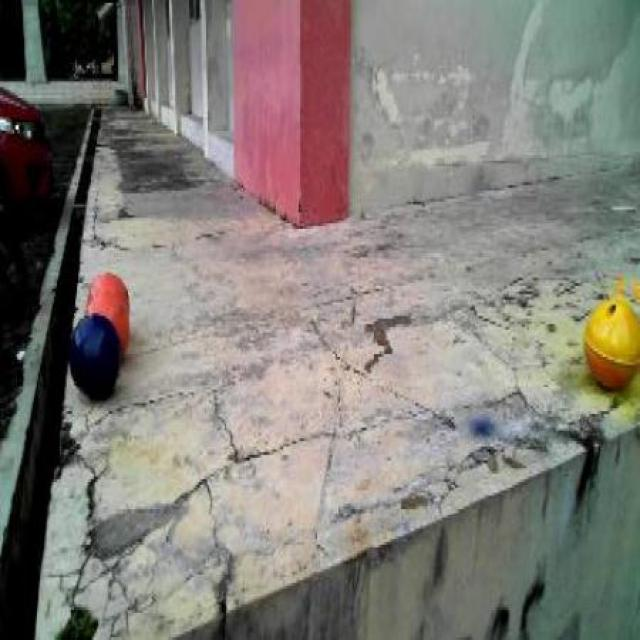buoy: (65, 308, 123, 409), (84, 289, 131, 362), (81, 256, 134, 319)
